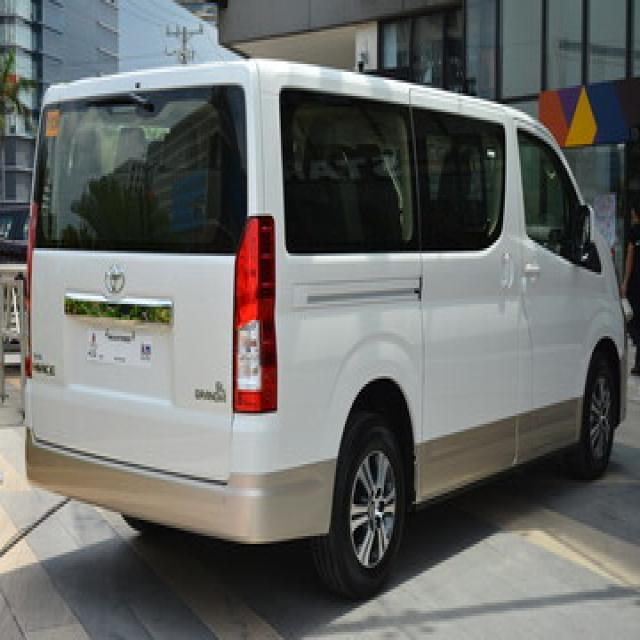person: (622, 195, 638, 373)
van: (25, 59, 624, 597)
